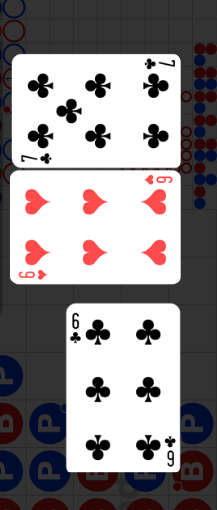6C: (163, 433, 177, 468)
6H: (17, 268, 49, 281)
7C: (19, 151, 54, 165)
